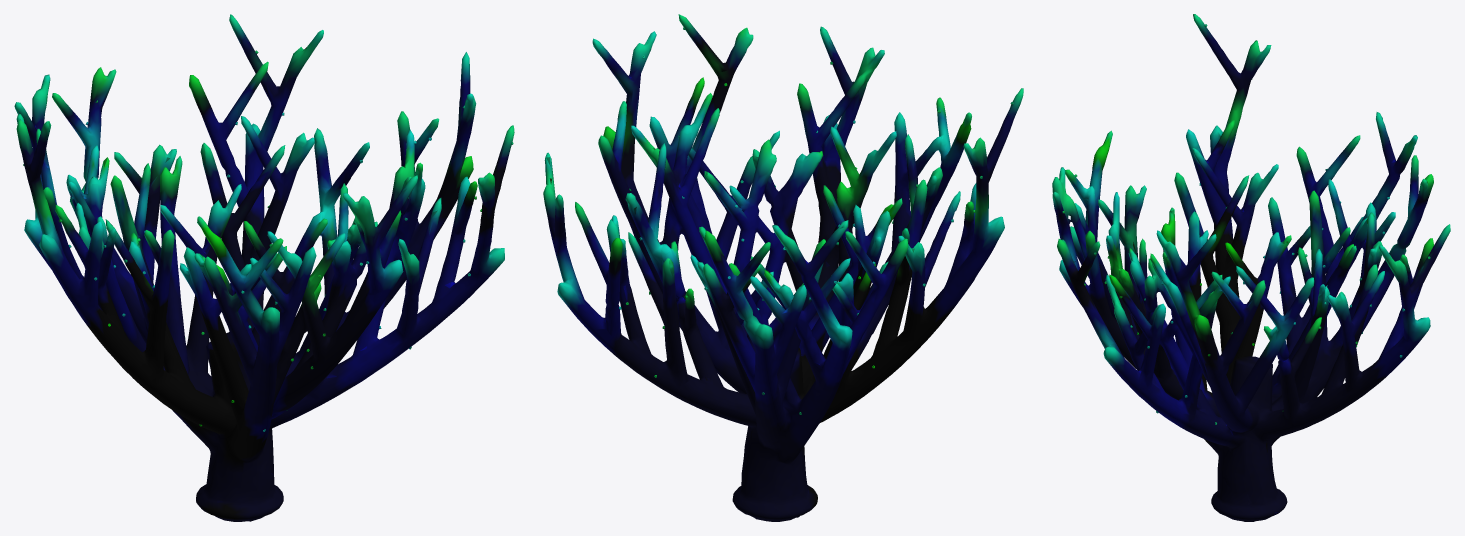
File: reef-acropora-corymbose.glb
3 views of the same model, side by side, from view 1: azimuth 30°, elevation 25°; view 2: azimuth 150°, elevation 25°; view 3: azimuth 270°, elevation 25° (orthographic). The views are drawn at different scales.
Parts seen in each view (by area): view 1: Reef_Acropora_Corymbose; view 2: Reef_Acropora_Corymbose; view 3: Reef_Acropora_Corymbose.
Boxes of the visible parts, bbox=[...] form: Reef_Acropora_Corymbose: bbox=[14, 14, 514, 521]; Reef_Acropora_Corymbose: bbox=[543, 14, 1023, 521]; Reef_Acropora_Corymbose: bbox=[1052, 14, 1450, 521].
Bounding box in the file's own units: 0.2128 × 0.218 × 0.1956.
Materials: 1 (1 with a texture image).
